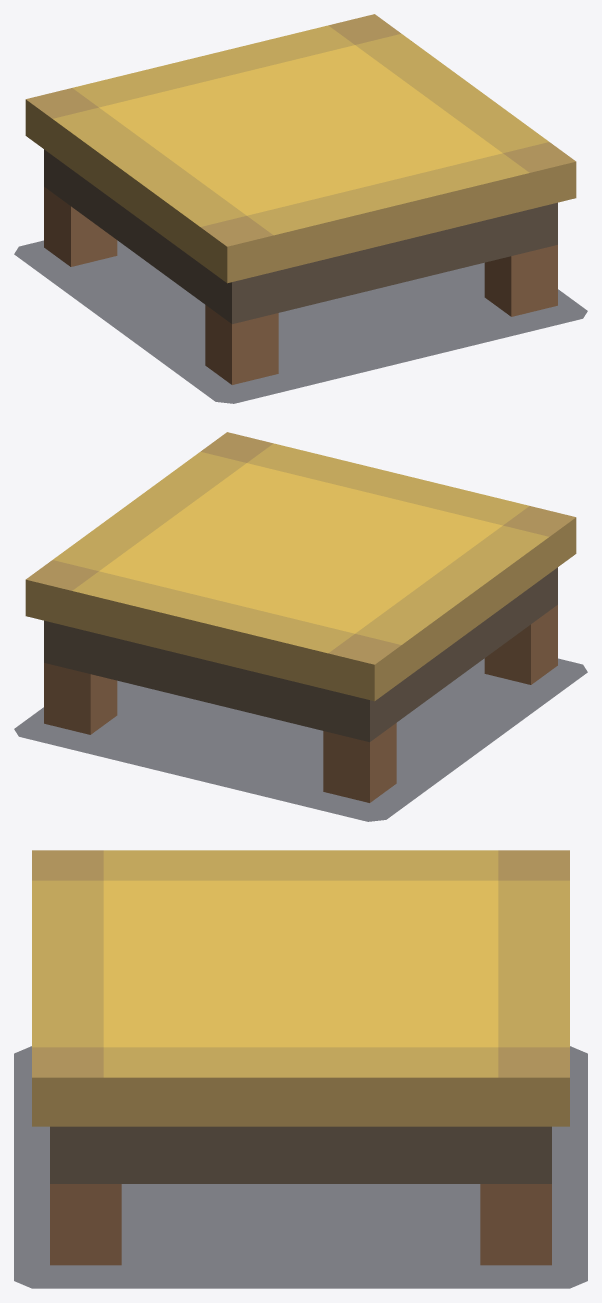
Rendered from modelo.obj.
3 renders of one model, top to bottom at view 1: azimuth 30°, elevation 25°; view 2: azimuth 150°, elevation 25°; view 3: azimuth 270°, elevation 25°, orthographic. The views are drawn at different scales.
Parts seen in each view (by area): view 1: polygon1, polygon0; view 2: polygon1, polygon0; view 3: polygon1, polygon0.
Part boxes in pixels (<box>): polygon1: <box>25,14,576,384</box>; polygon0: <box>14,240,587,403</box>; polygon1: <box>25,432,576,802</box>; polygon0: <box>14,658,587,821</box>; polygon1: <box>32,850,569,1265</box>; polygon0: <box>14,1046,587,1288</box>.
Size of the model in its own units: 32 by 12.5 by 32.
Materials: 2 (2 with a texture image).
